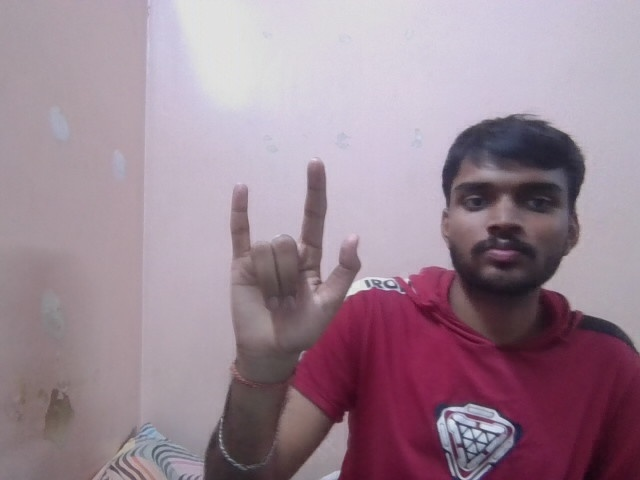I Love You: (215, 153, 362, 349)
